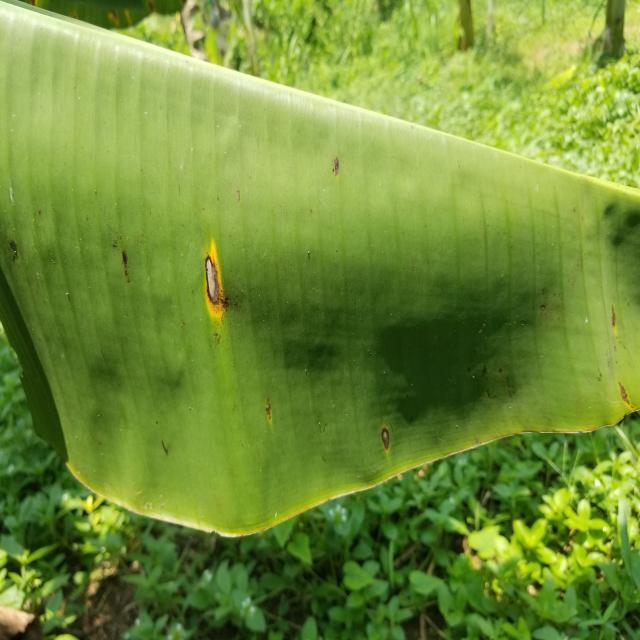Early_rust: (180, 215, 277, 338), (341, 386, 413, 475), (605, 293, 638, 420), (246, 380, 293, 446)
